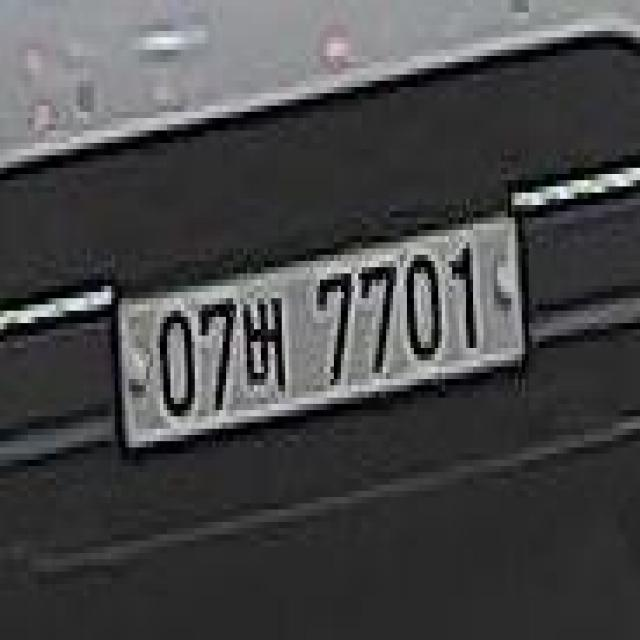illegal_plate: (110, 200, 533, 470)
